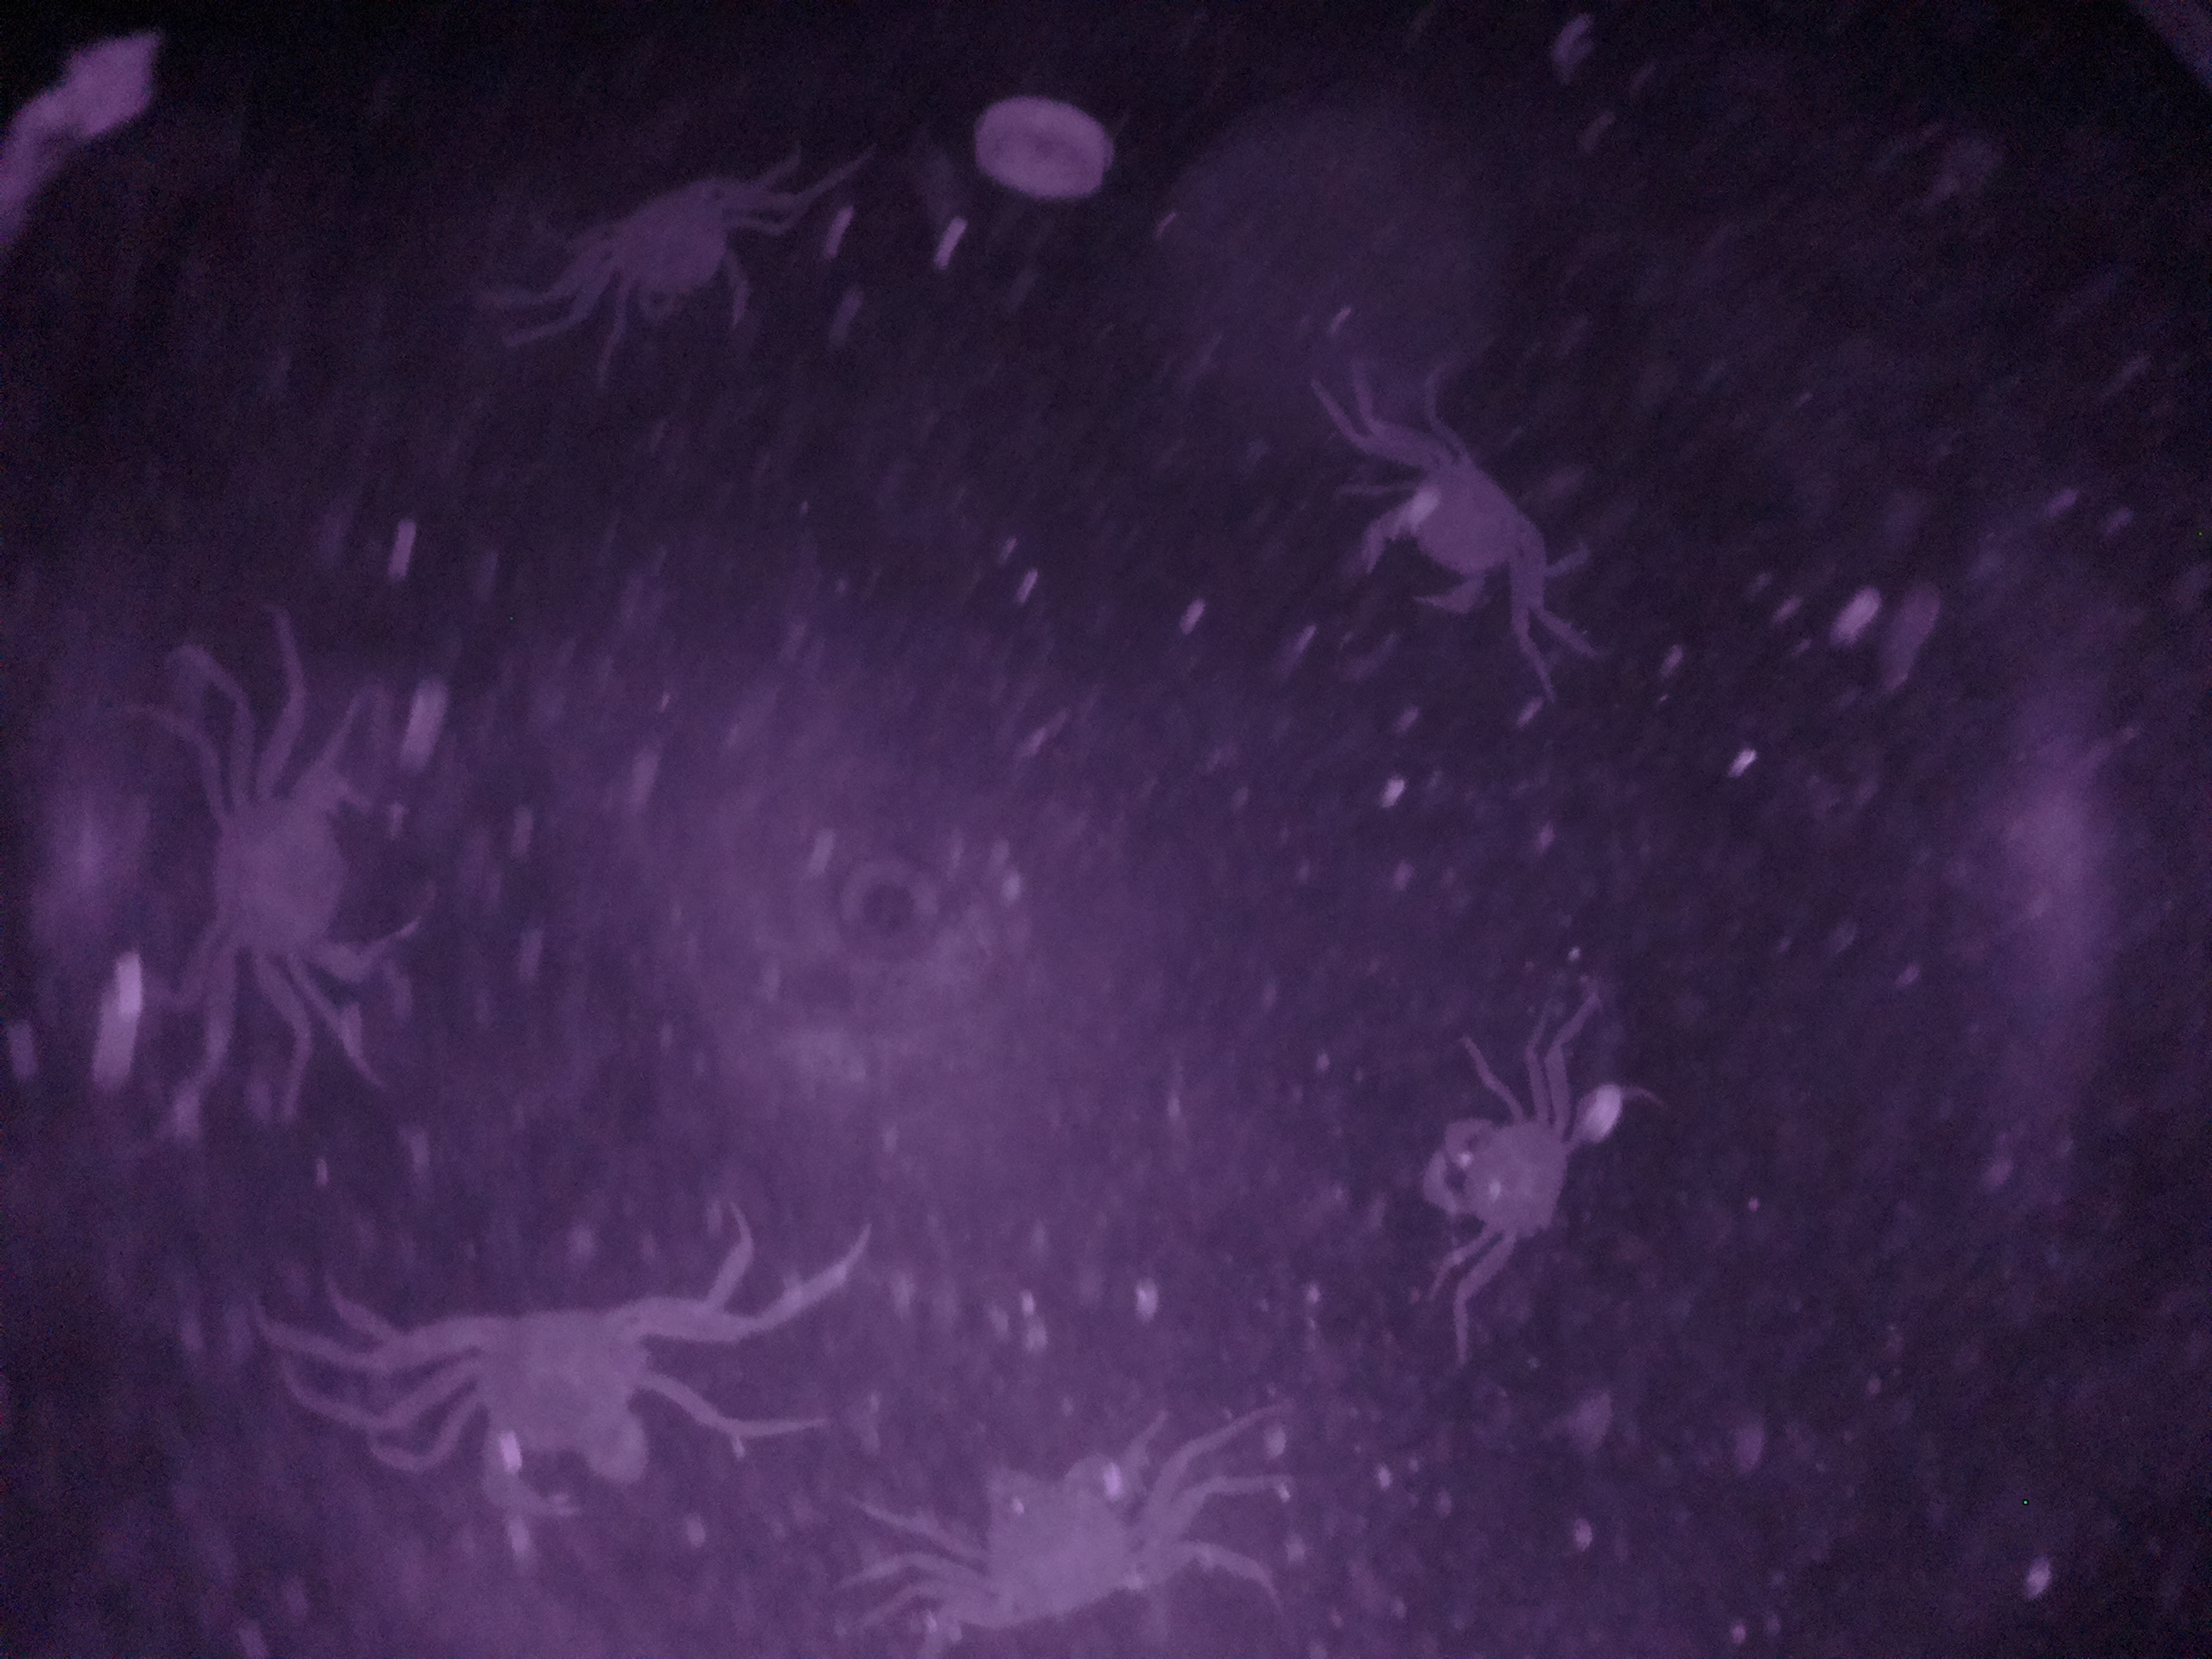Crab: (176, 739, 446, 1035), (420, 1260, 712, 1525), (1341, 413, 1581, 643), (911, 1431, 1181, 1635), (550, 162, 786, 364), (1402, 1070, 1597, 1272)
